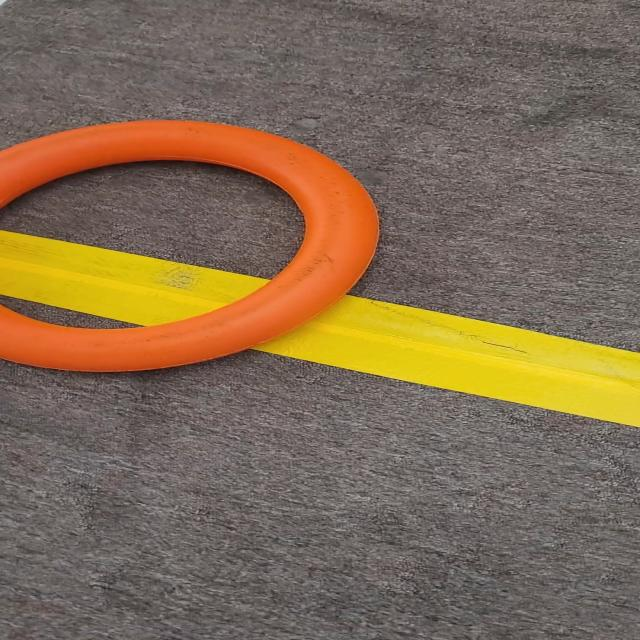note: (0, 110, 387, 377)
